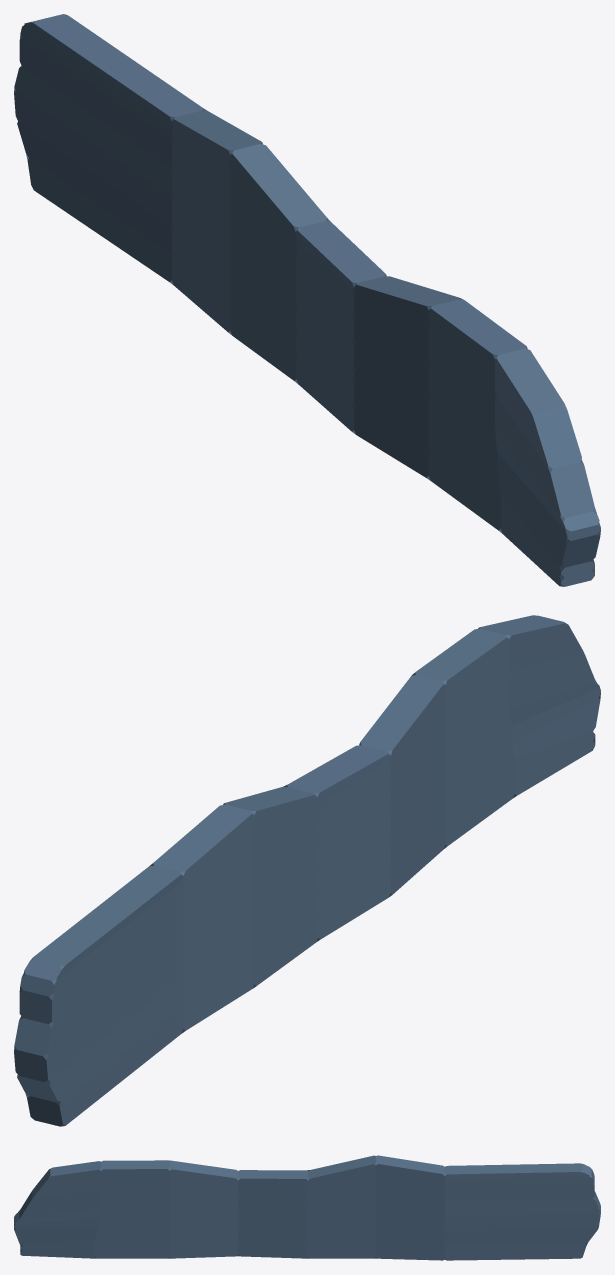
File: wall2.fbx
The picture shows the model from 3 angles, top to bottom: view 1: azimuth 30°, elevation 25°; view 2: azimuth 150°, elevation 25°; view 3: azimuth 270°, elevation 25°; orthographic projection. The views are drawn at different scales.
Visible parts, largest first — view 1: Cube; view 2: Cube; view 3: Cube.
Part boxes in pixels (x1,y1,x2,y2): Cube: (14, 14, 600, 586); Cube: (14, 615, 600, 1126); Cube: (14, 1155, 600, 1260).
Bounding box in the file's own units: 116 × 381 × 2135.
